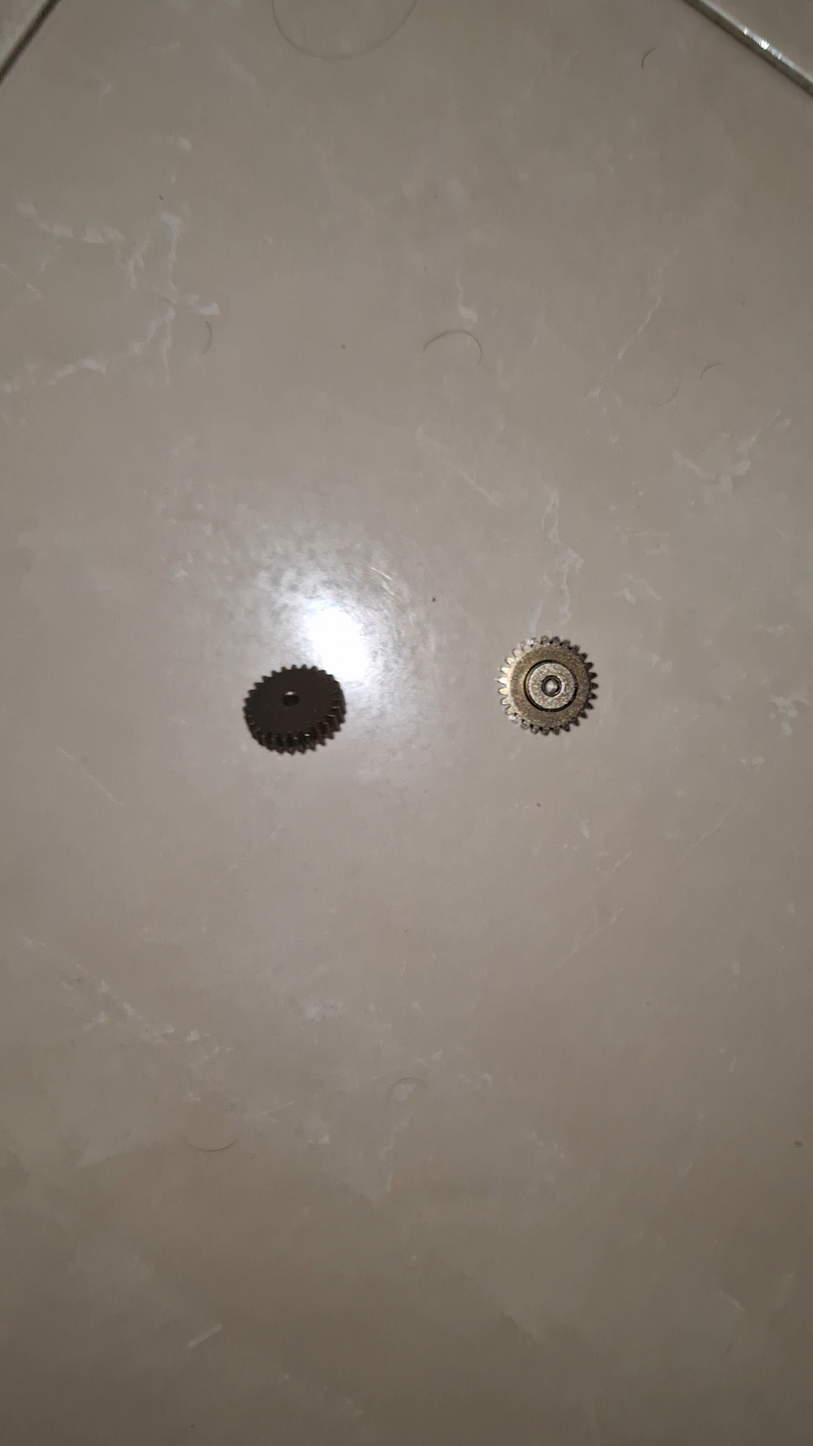spur gear: (499, 637, 597, 733), (244, 667, 344, 753)
